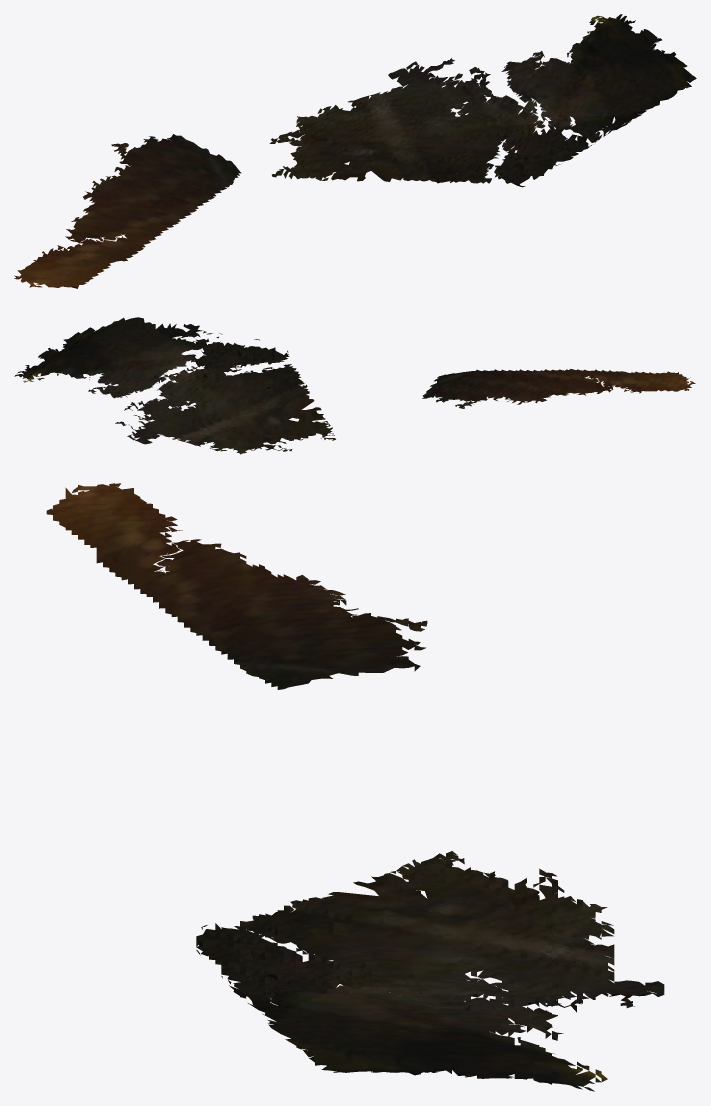
The picture shows the model from 3 angles, top to bottom: view 1: azimuth 30°, elevation 25°; view 2: azimuth 150°, elevation 25°; view 3: azimuth 270°, elevation 25°; orthographic projection. The views are drawn at different scales.
Visible parts, largest first — view 1: mesh; view 2: mesh; view 3: mesh.
Boxes of the visible parts, x1,y1,x2,y2 form: mesh: (14,14,696,288); mesh: (14,317,695,454); mesh: (46,483,664,1091).
Size of the model in its own units: 5.14 by 0.5163 by 2.47.
Materials: 1 (1 with a texture image).
